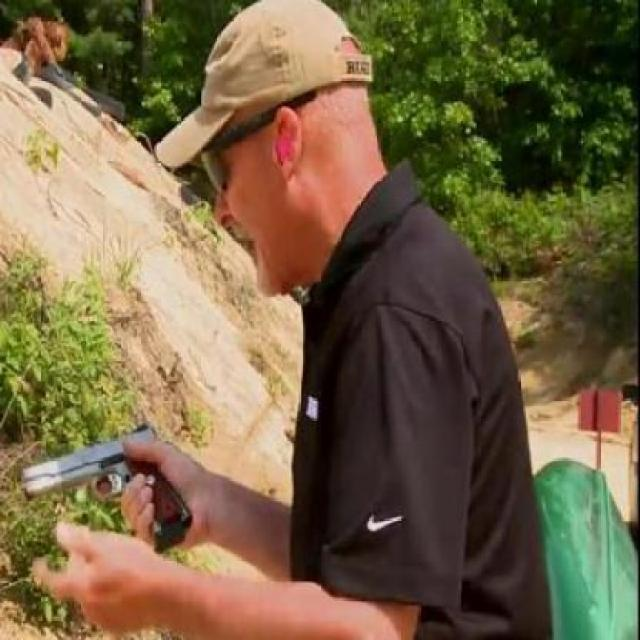gun: (16, 419, 196, 550)
